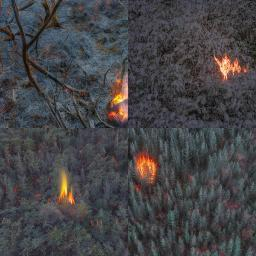Medium fire: (134, 152, 161, 188)
Small fire: (212, 52, 252, 84), (107, 75, 126, 128), (56, 169, 80, 209)
